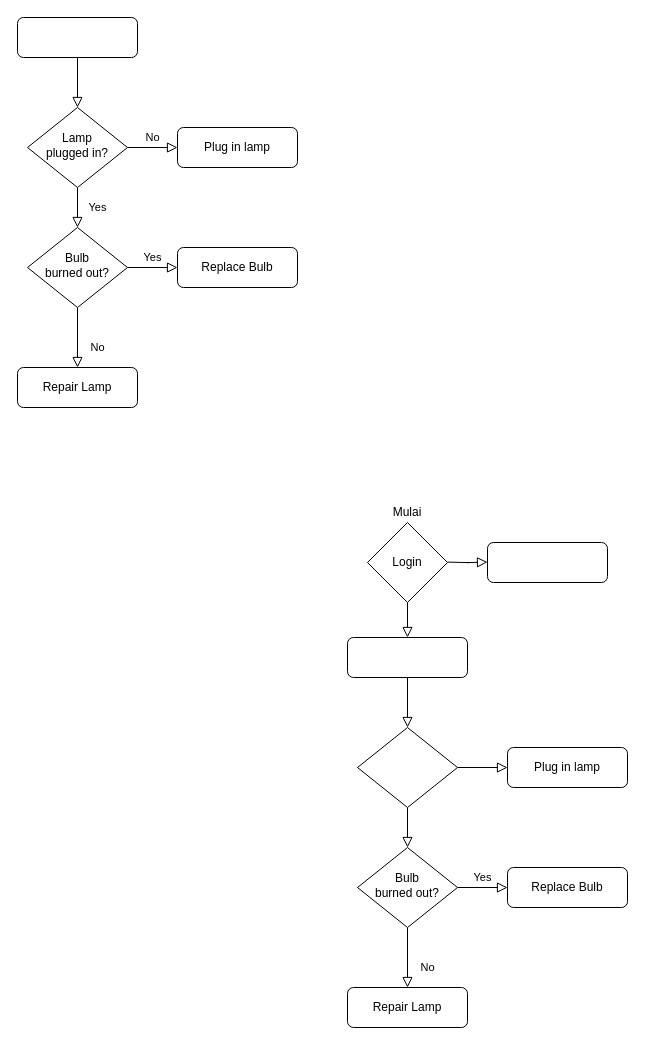
Image size: 645x1045. Some labels were removed from this diagram. The centre of each missing label's shape, as x and y in pixels:
"Buat akun" belongs at point (547, 562).
"Lamp doesn't work" belongs at point (77, 37).
"Meminjam barang" belongs at point (407, 767).
"Mengisi data profil" belongs at point (407, 657).
